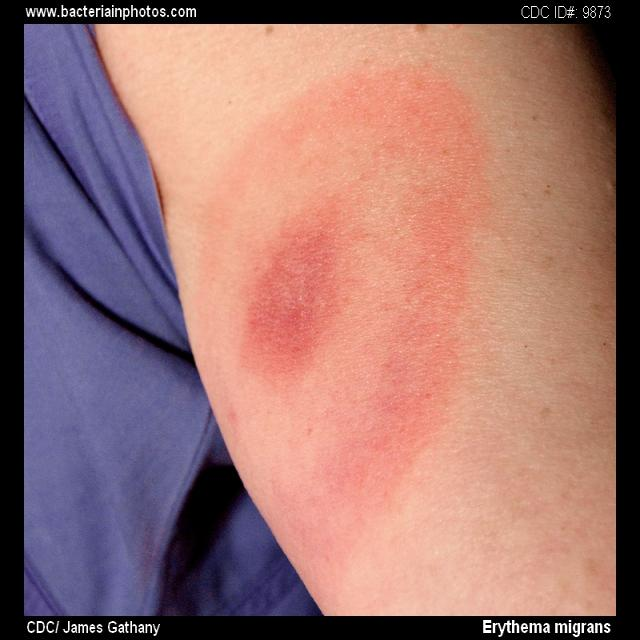Erythema migrans: (199, 63, 531, 417)
